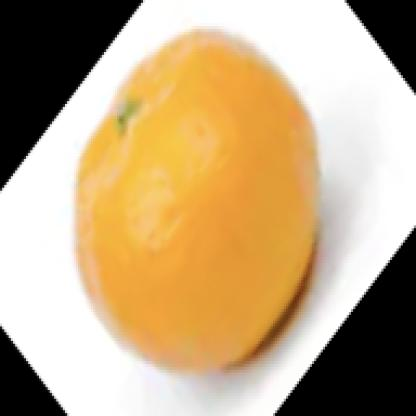fresh: (74, 29, 318, 380)
